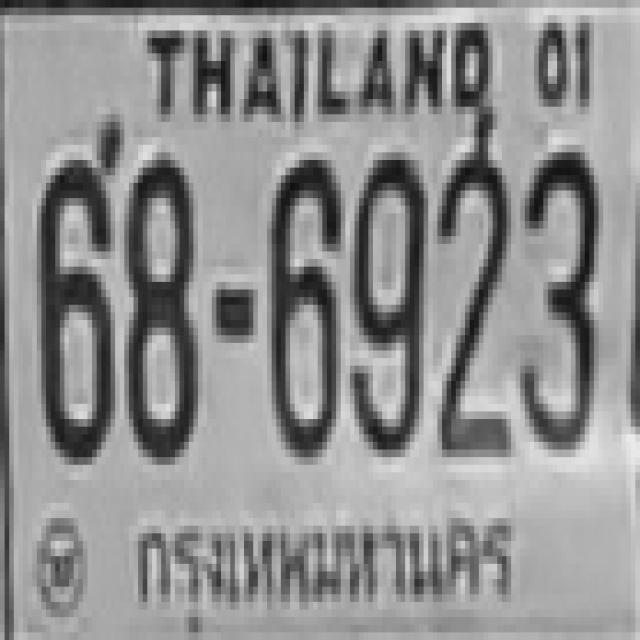2: (435, 144, 509, 450)
3: (518, 145, 596, 442)
6: (34, 145, 113, 457), (267, 153, 336, 450)
8: (124, 148, 194, 454)
9: (345, 144, 424, 450)
Bangkok: (127, 500, 517, 640)
